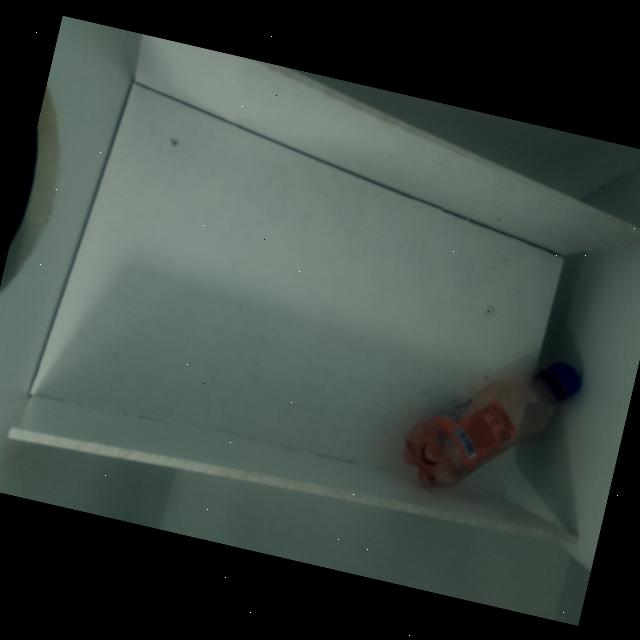trash: (390, 330, 588, 524)
